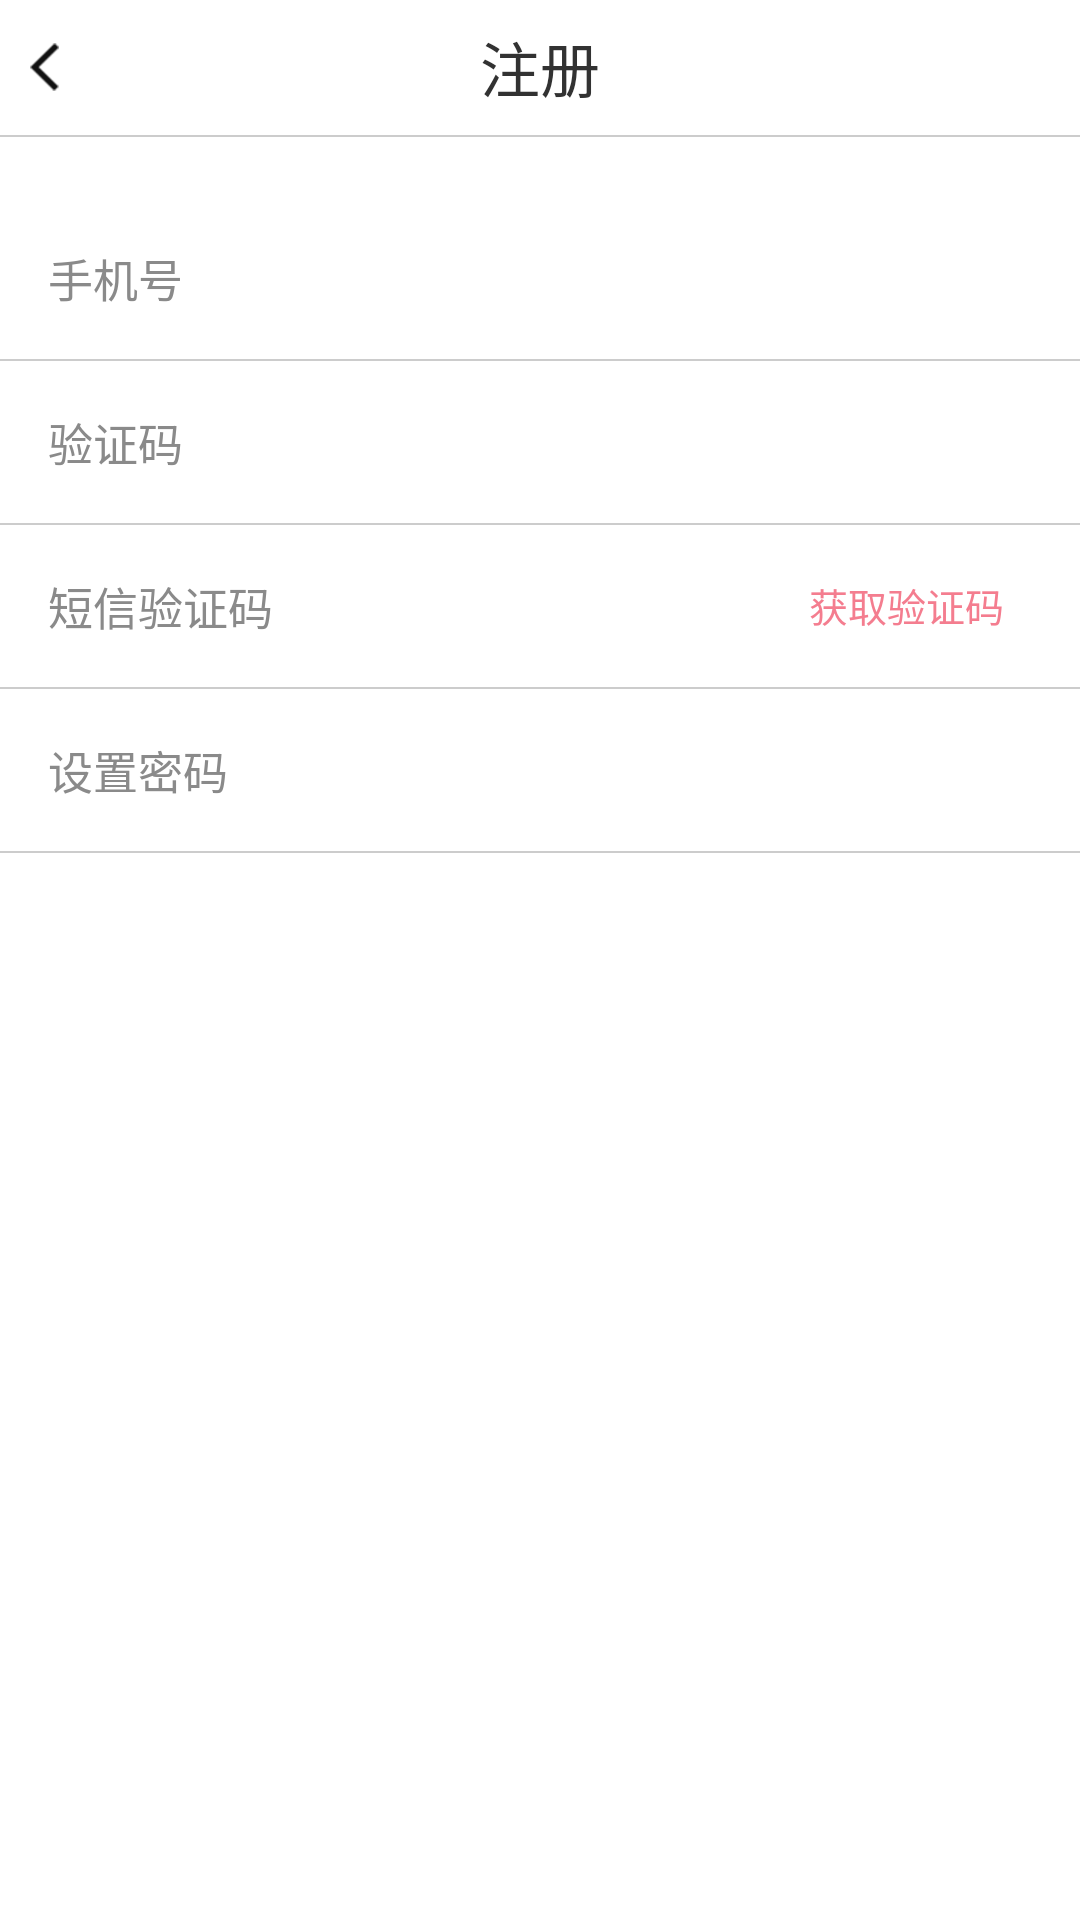

Screen size 1080w x 1920h. Icon name, then its center in pixels as (x=x, y=y):
fanhui: (x=44, y=67)
